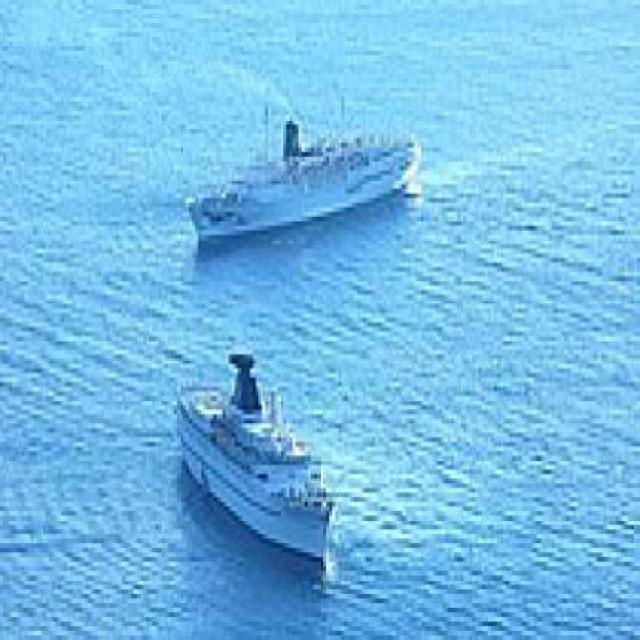cruise: (169, 337, 352, 568), (180, 97, 434, 254)
